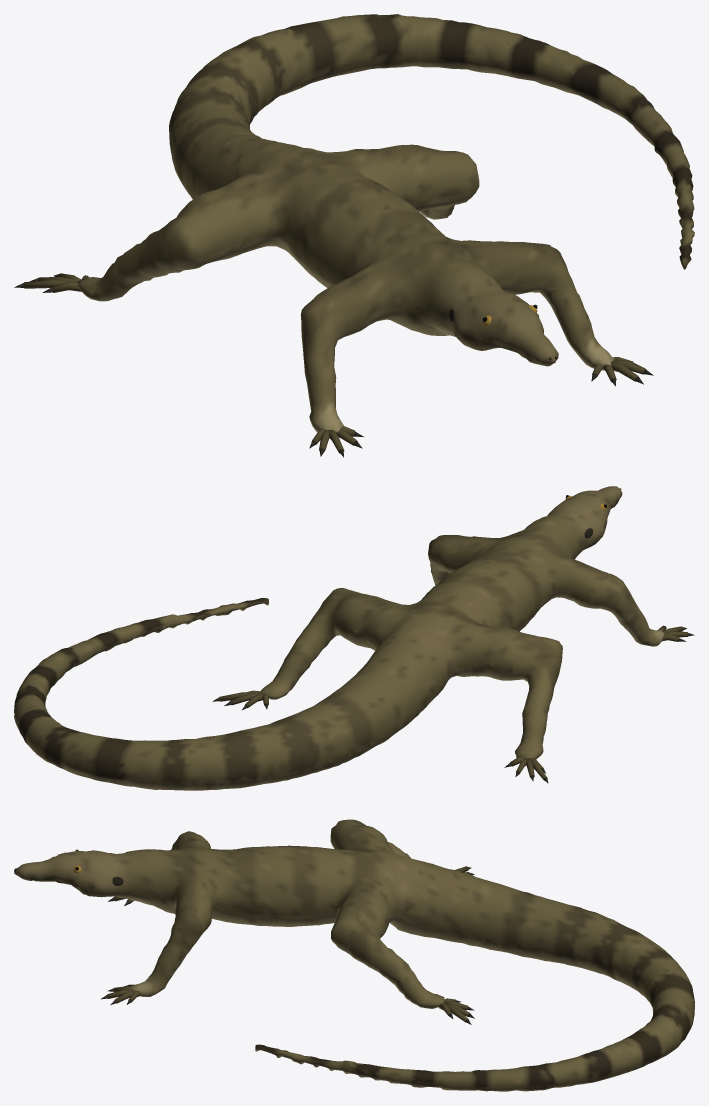
The model's file is Megachirella.fbx.
The picture shows the model from 3 angles, top to bottom: view 1: azimuth 30°, elevation 25°; view 2: azimuth 150°, elevation 25°; view 3: azimuth 270°, elevation 25°; orthographic projection. The views are drawn at different scales.
Parts seen in each view (by area): view 1: Megachirella; view 2: Megachirella; view 3: Megachirella.
Boxes of the visible parts, x1,y1,x2,y2 form: Megachirella: [14, 14, 694, 457]; Megachirella: [14, 486, 694, 790]; Megachirella: [14, 819, 694, 1091].
Size of the model in its own units: 0.7896 by 0.1569 by 0.9948.
